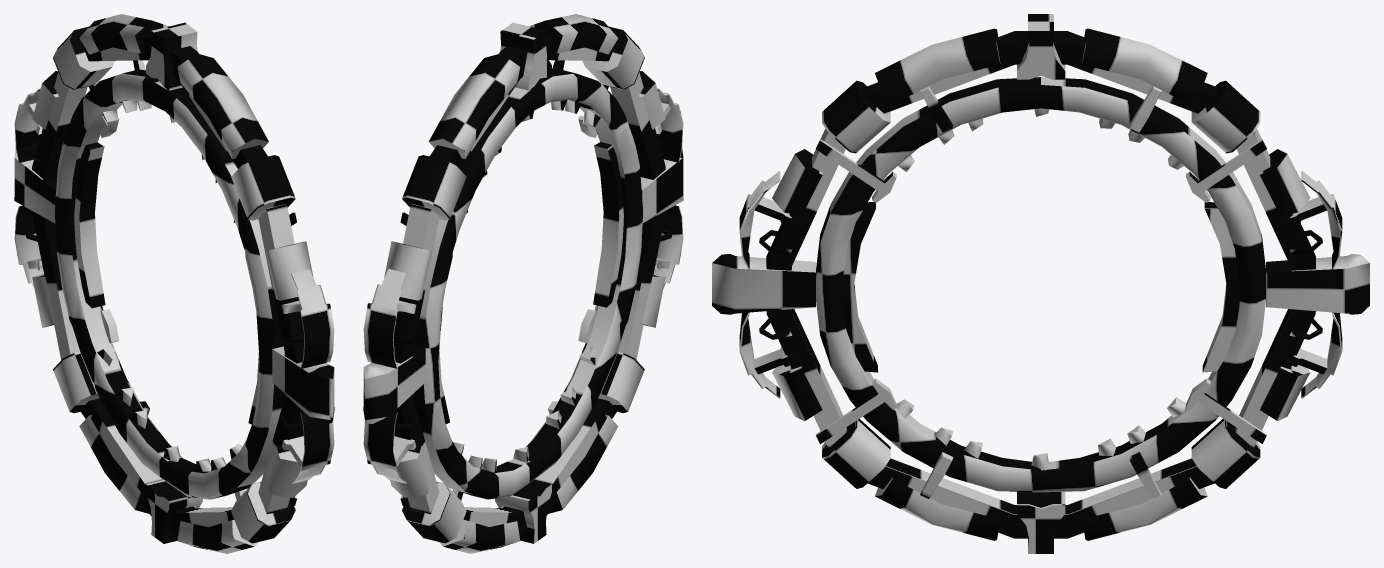
The model's file is galaxygate_alfa.obj.
3 renders of one model, left to right at view 1: azimuth 30°, elevation 25°; view 2: azimuth 150°, elevation 25°; view 3: azimuth 270°, elevation 25°, orthographic. The views are drawn at different scales.
Parts seen in each view (by area): view 1: galaxygate_alfa; view 2: galaxygate_alfa; view 3: galaxygate_alfa.
Part boxes in pixels (<box>): galaxygate_alfa: <box>14,14,334,553</box>; galaxygate_alfa: <box>363,14,683,553</box>; galaxygate_alfa: <box>712,14,1369,553</box>.
Bounding box in the file's own units: 39.43 × 498 × 568.
1 material, 1 textured.
